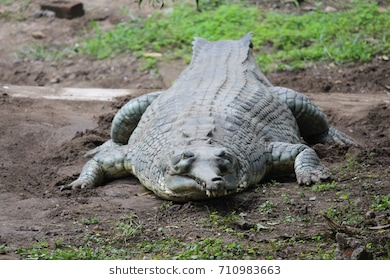Crocodile: (53, 35, 365, 200)
